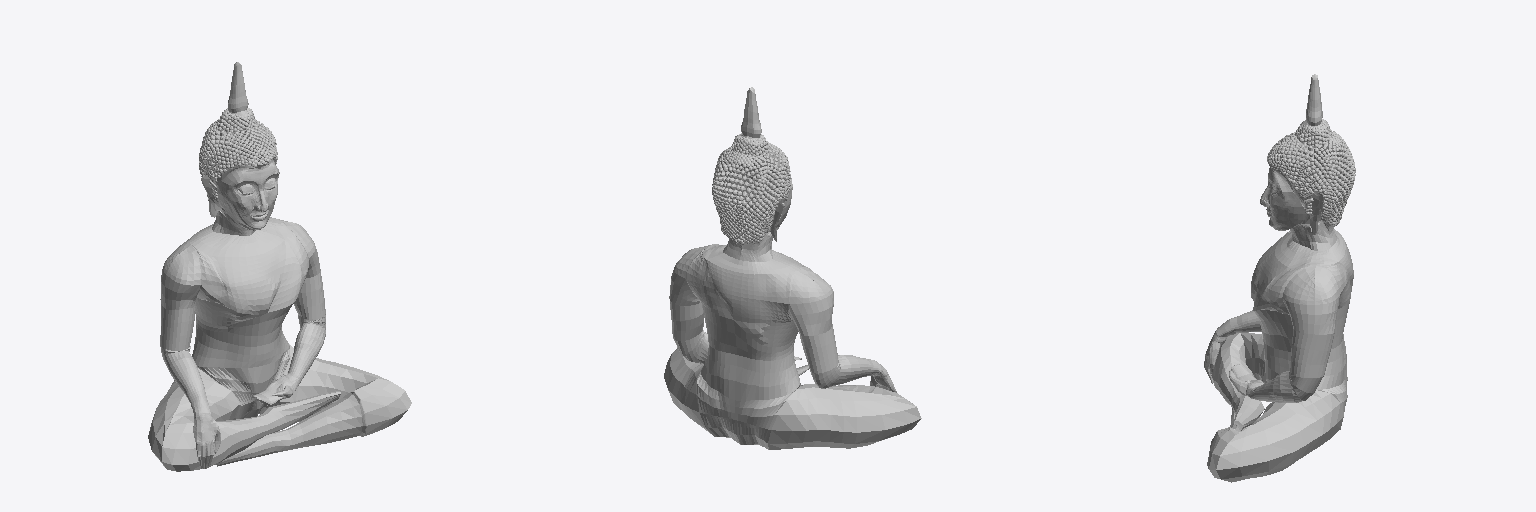
File: budhha.obj
3 renders of one model, left to right at view 1: azimuth 30°, elevation 25°; view 2: azimuth 150°, elevation 25°; view 3: azimuth 270°, elevation 25°, orthographic.
Visible parts, largest first — view 1: buddhaimage; view 2: buddhaimage; view 3: buddhaimage.
Boxes of the visible parts, <box> form: buddhaimage: <box>148,62,411,471</box>; buddhaimage: <box>664,87,921,449</box>; buddhaimage: <box>1204,74,1355,482</box>.
Bounding box in the file's own units: 245 × 343 × 130.